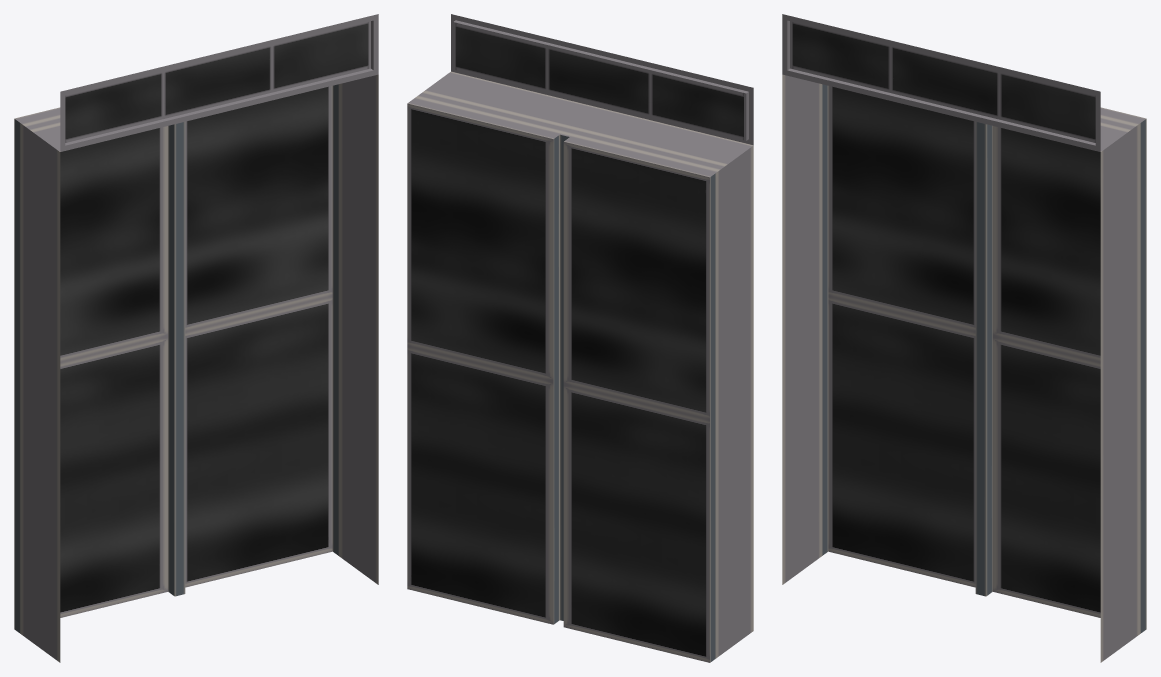
File: SM_ENV_K2_DOOR_01.fbx
3 renders of one model, left to right at view 1: azimuth 30°, elevation 25°; view 2: azimuth 150°, elevation 25°; view 3: azimuth 330°, elevation 25°, orthographic. The views are drawn at different scales.
Parts seen in each view (by area): view 1: SM_ENV_K2_DOOR_01; view 2: SM_ENV_K2_DOOR_01; view 3: SM_ENV_K2_DOOR_01.
Part boxes in pixels (x1,y1,x2,y2): SM_ENV_K2_DOOR_01: [14, 14, 378, 662]; SM_ENV_K2_DOOR_01: [407, 14, 753, 662]; SM_ENV_K2_DOOR_01: [782, 14, 1146, 662].
Bounding box in the file's own units: 1.4 × 2.4 × 0.35.
